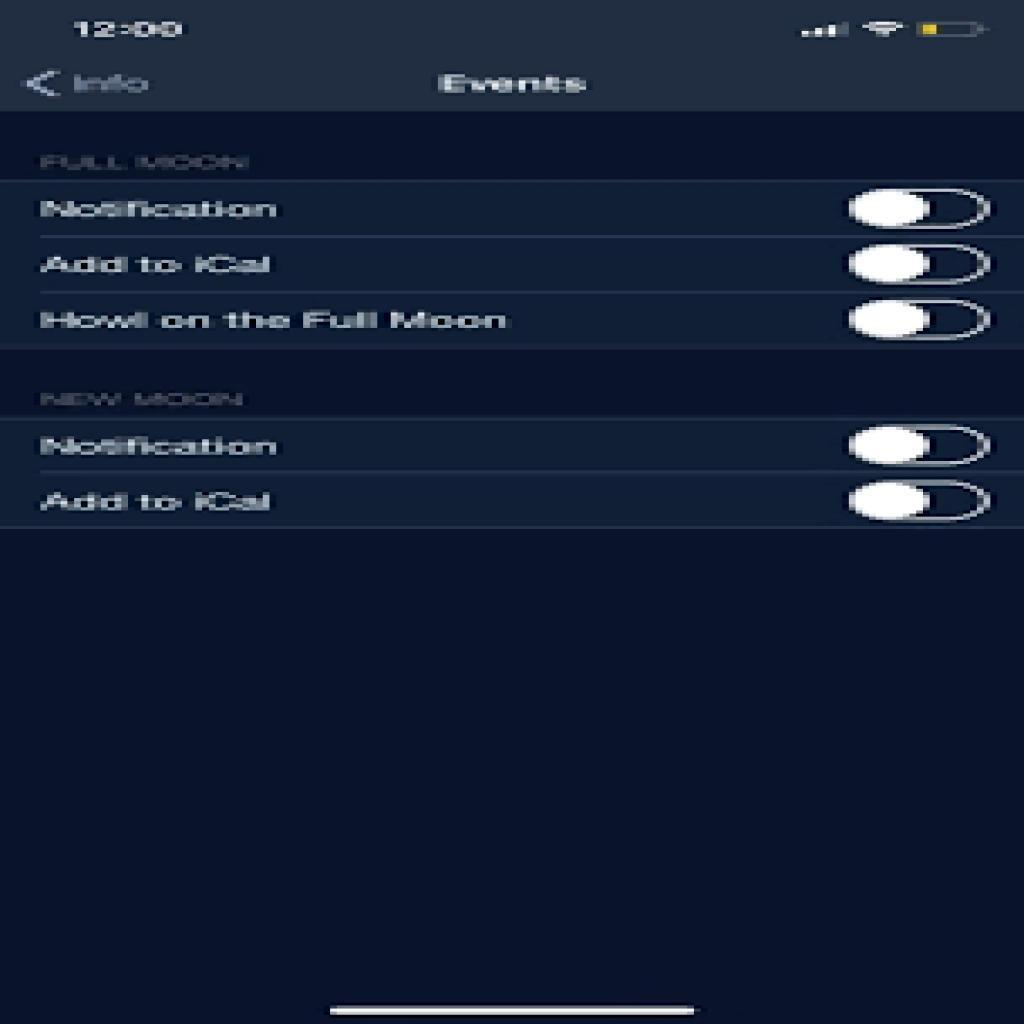switch: (847, 479, 995, 529), (850, 244, 991, 290), (851, 186, 993, 230), (849, 299, 994, 341), (849, 423, 990, 465)
